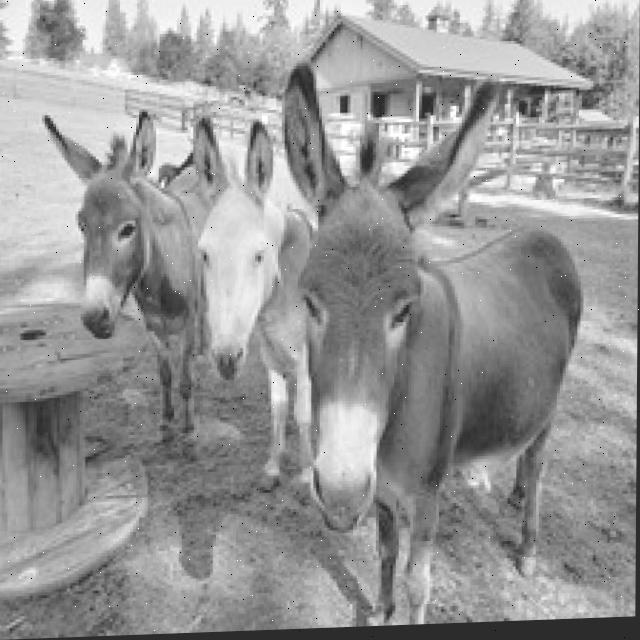Donkey: (276, 47, 585, 627), (37, 103, 216, 461), (188, 108, 319, 499)
